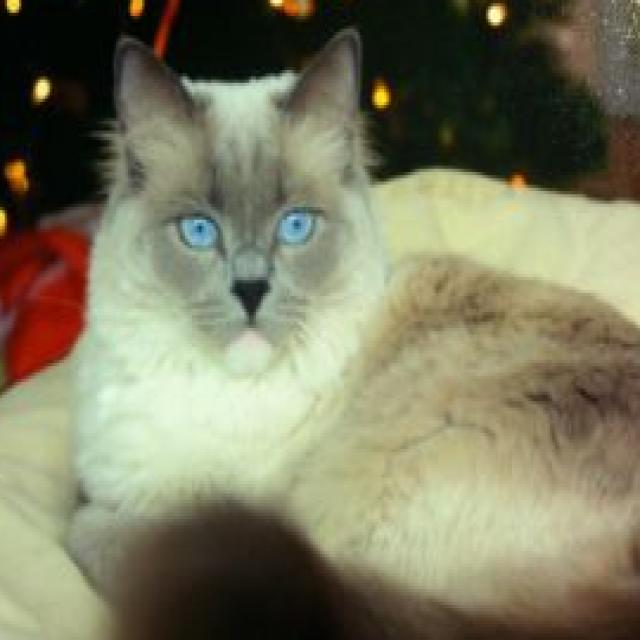Ragdoll: (61, 22, 640, 639)
